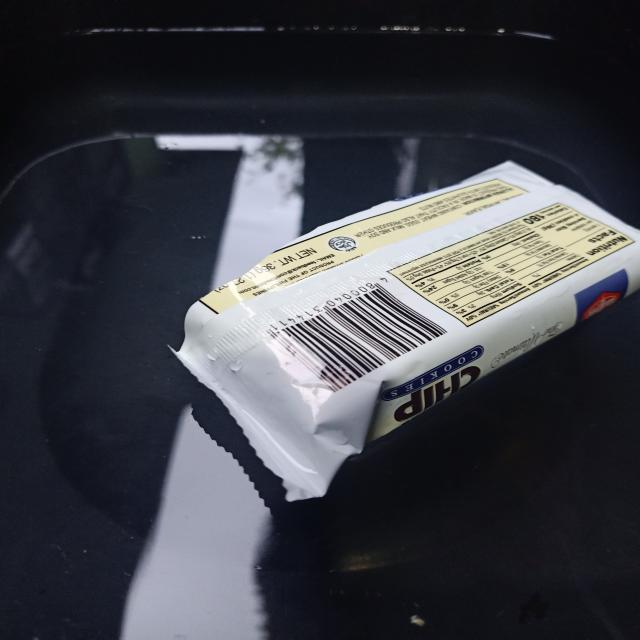Plastic Wrapper: (176, 166, 640, 499), (384, 295, 395, 303)
